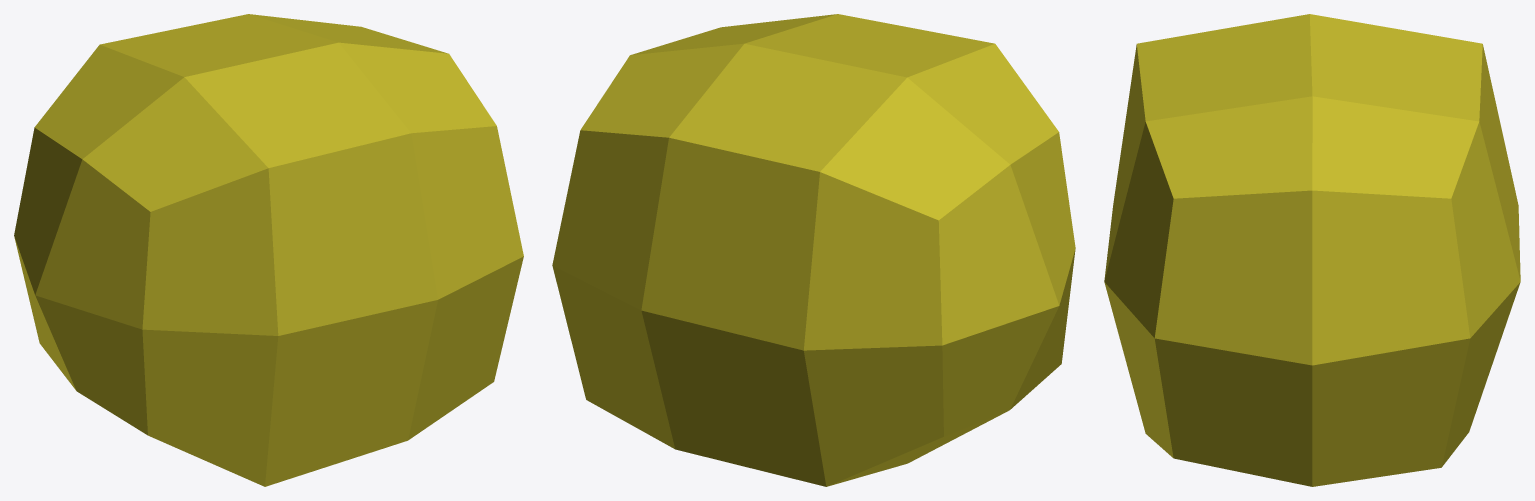
The model's file is melon.fbx.
The picture shows the model from 3 angles, left to right: view 1: azimuth 30°, elevation 25°; view 2: azimuth 150°, elevation 25°; view 3: azimuth 270°, elevation 25°; orthographic projection. The views are drawn at different scales.
Parts seen in each view (by area): view 1: melon; view 2: melon; view 3: melon.
Boxes of the visible parts, x1,y1,x2,y2 form: melon: (14,14,523,486); melon: (552,14,1075,486); melon: (1104,14,1520,486).
Size of the model in its own units: 25.51 by 19.33 by 19.31.
Materials: 1 (1 with a texture image).
